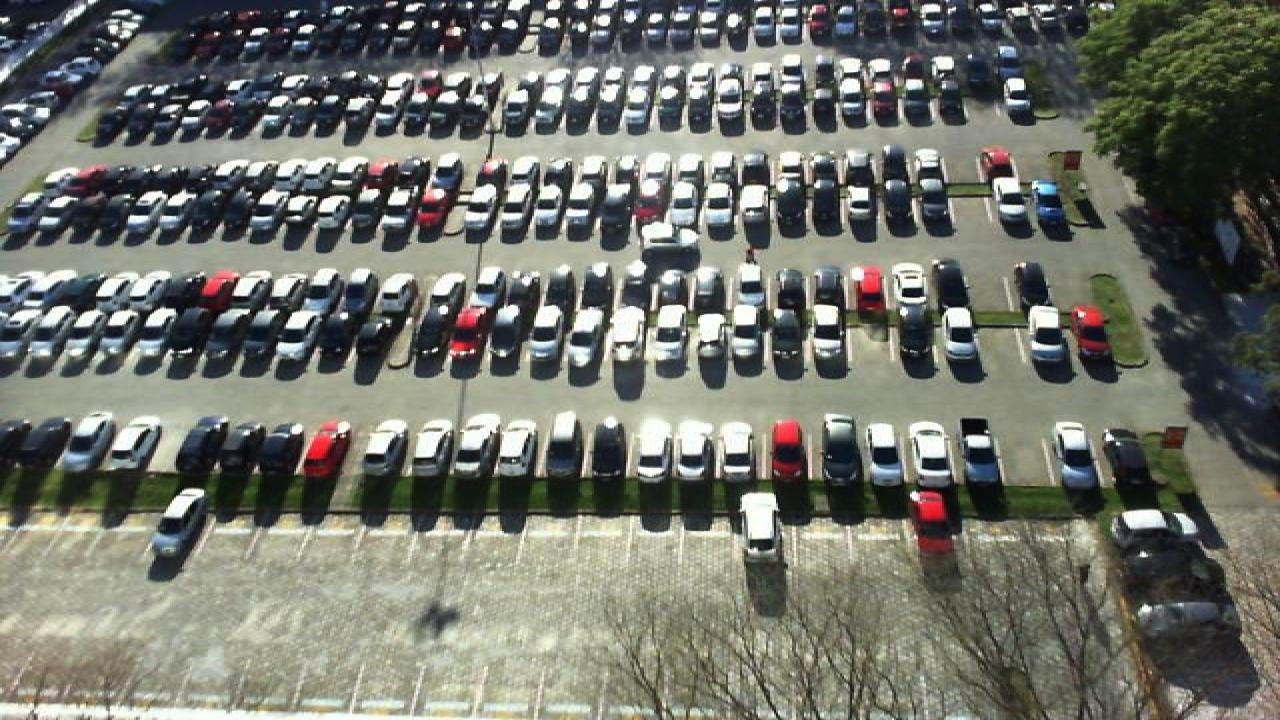Car: (1136, 600, 1230, 644), (154, 488, 208, 562), (738, 491, 786, 564), (910, 490, 964, 554), (1100, 426, 1154, 489), (360, 414, 410, 477), (62, 412, 114, 472), (450, 415, 500, 476), (960, 418, 1004, 486), (106, 415, 160, 470), (1050, 421, 1094, 488), (24, 306, 78, 360), (544, 411, 588, 477), (66, 307, 120, 360), (906, 421, 950, 486), (302, 421, 352, 478), (408, 416, 454, 477), (820, 413, 860, 483), (1112, 507, 1180, 546), (634, 417, 676, 480), (676, 417, 718, 480), (1072, 304, 1116, 364), (588, 415, 630, 477), (196, 307, 244, 361), (176, 415, 222, 470), (278, 306, 324, 361), (498, 414, 538, 477), (1022, 304, 1064, 364), (20, 417, 70, 467), (154, 306, 200, 360), (862, 422, 902, 484), (258, 422, 306, 472), (718, 420, 758, 480), (768, 420, 808, 480), (886, 306, 928, 363), (112, 308, 158, 360), (238, 306, 282, 360), (408, 302, 450, 358), (606, 305, 646, 362), (650, 304, 690, 361), (566, 306, 606, 362), (316, 305, 358, 358), (356, 305, 398, 358), (932, 305, 970, 363), (218, 421, 262, 471), (524, 306, 564, 361), (812, 307, 852, 361), (448, 306, 488, 358), (736, 304, 772, 361), (370, 266, 412, 314), (488, 305, 524, 360), (22, 269, 66, 314), (640, 222, 698, 256), (332, 266, 374, 312), (0, 192, 42, 238), (770, 307, 806, 360), (216, 269, 258, 314), (178, 269, 220, 314), (62, 270, 104, 315), (694, 309, 730, 361), (100, 270, 142, 314), (34, 192, 74, 238), (0, 306, 34, 359), (894, 262, 930, 312), (256, 269, 296, 314), (140, 269, 180, 314), (294, 269, 334, 313), (174, 191, 214, 235), (140, 192, 180, 236), (104, 192, 144, 236), (70, 192, 110, 236), (426, 264, 464, 310), (916, 178, 952, 225), (244, 192, 282, 236), (210, 192, 248, 236), (1014, 260, 1050, 306), (936, 264, 972, 310), (810, 266, 846, 312), (502, 264, 538, 310), (464, 264, 500, 310), (844, 181, 880, 227), (462, 184, 498, 229), (346, 190, 382, 235), (540, 266, 576, 310), (280, 192, 316, 236), (852, 264, 886, 310), (774, 266, 808, 312), (616, 262, 650, 308), (882, 180, 916, 226), (808, 182, 842, 228), (738, 182, 772, 228), (598, 182, 632, 228), (414, 187, 448, 233), (312, 191, 348, 234), (734, 262, 768, 307), (656, 262, 690, 307), (668, 179, 702, 224), (496, 184, 530, 229), (380, 189, 414, 234), (702, 182, 734, 229), (578, 263, 612, 307), (564, 184, 598, 228), (694, 264, 726, 310), (772, 182, 804, 228), (634, 176, 666, 222), (994, 179, 1026, 224), (1032, 180, 1064, 224), (530, 184, 562, 228), (0, 418, 26, 467), (0, 271, 26, 314)
